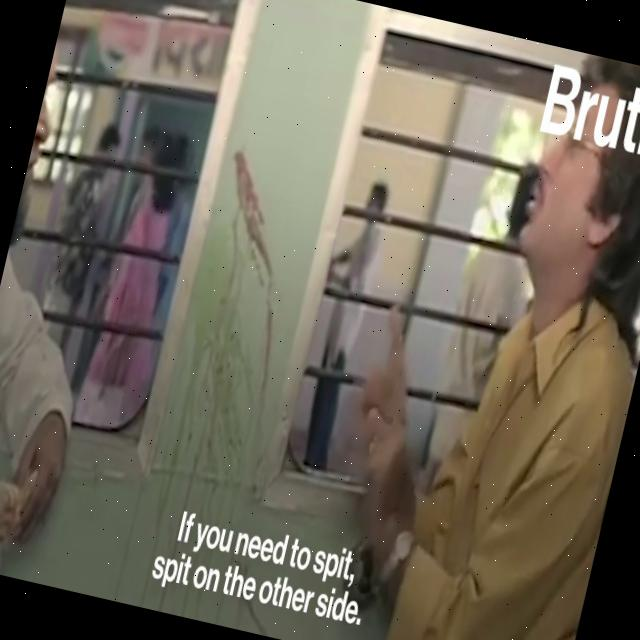spit: (143, 108, 360, 512)
